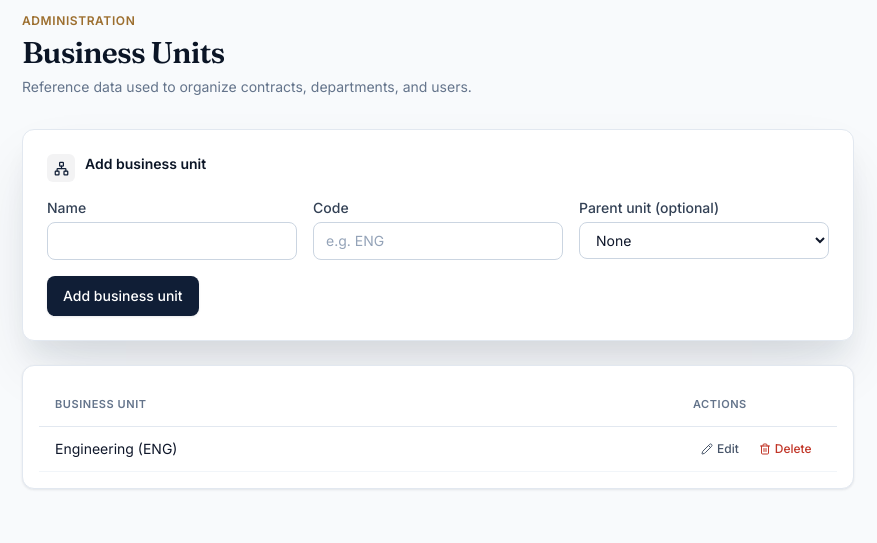
Scenario: BusinessUnitsPage delete guard › surfaces the backend's orphan-guard message when deletion is blocked
This screenshot has width=877, height=543.
Click the button "Delete": (785, 449) [751, 437, 820, 461]
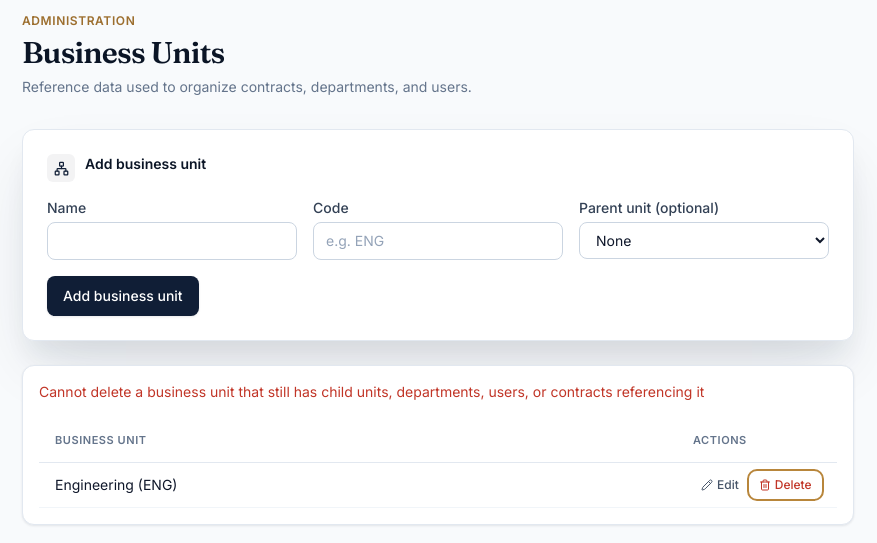
Expected: the text "cannot delete a business unit that still has child units, departments, users, or contracts" is shown, [39, 383, 704, 400]
